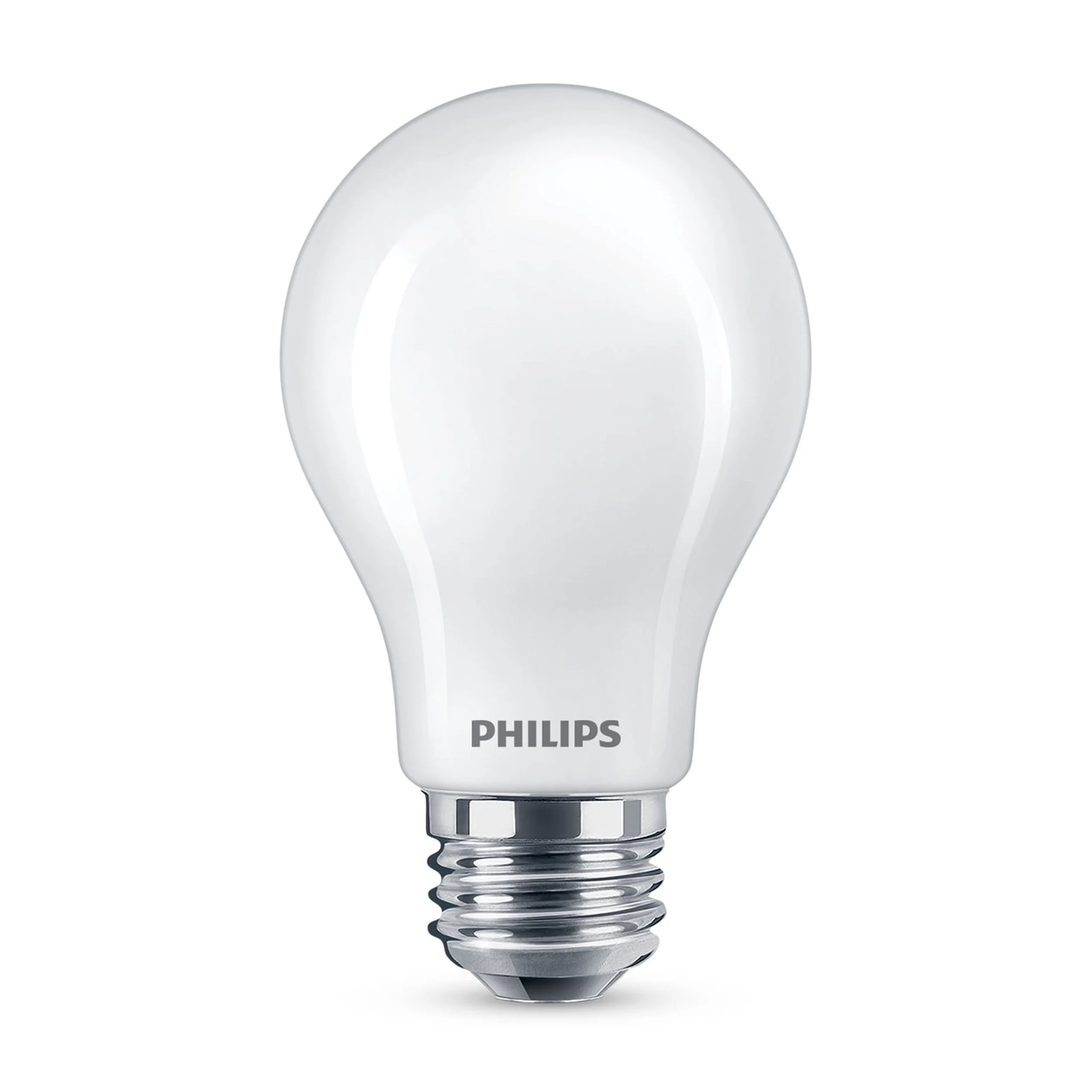toxic_waste: (270, 81, 808, 1010)
